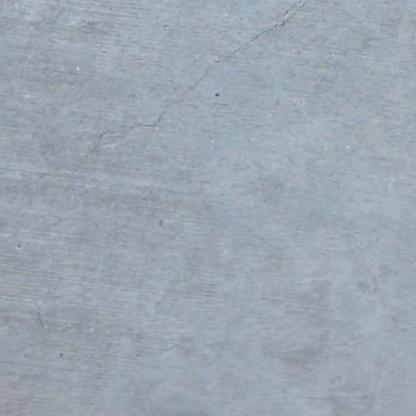Cracks: (0, 0, 373, 213)
